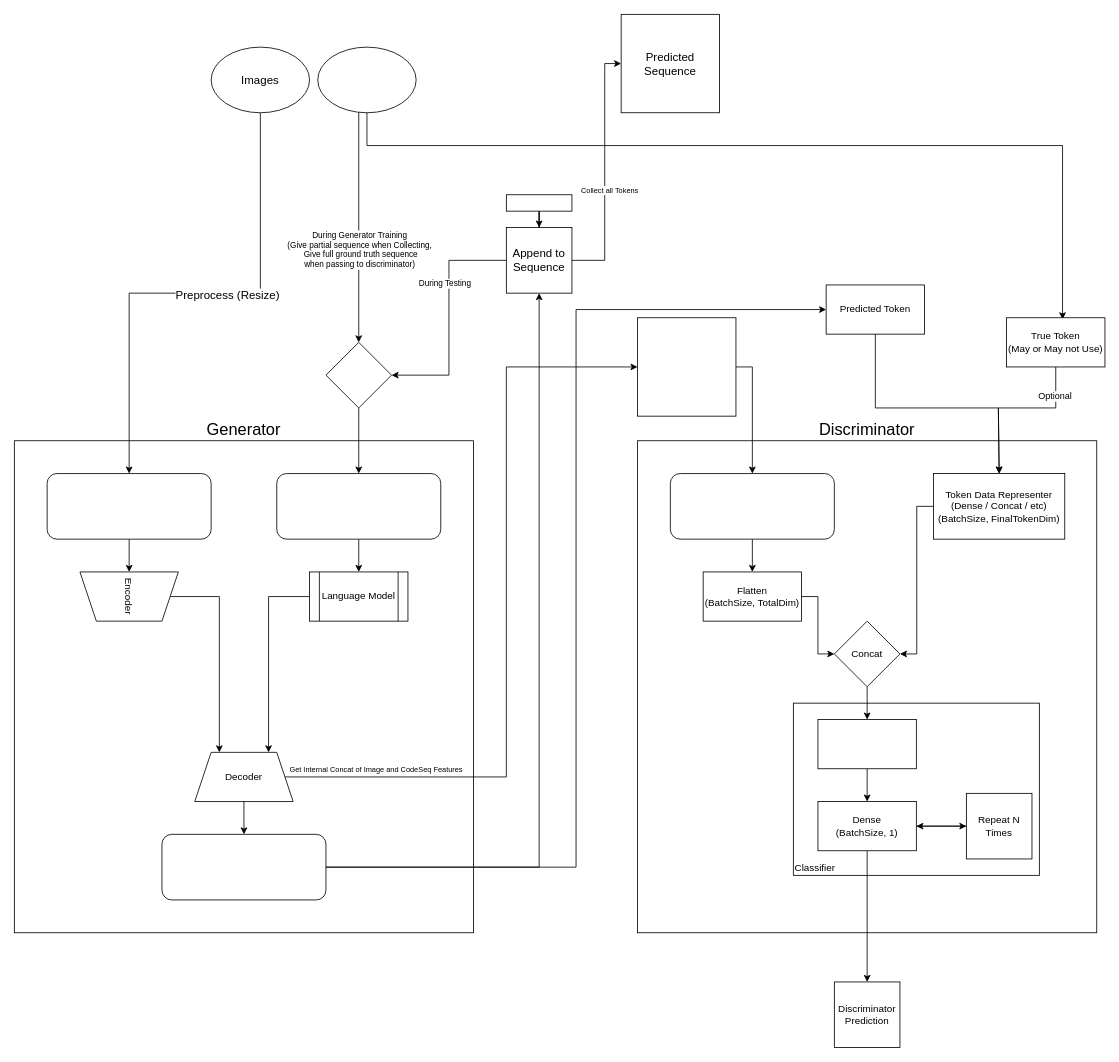
Some shapes in this 1119 by 1062 pixel diagram are drawn without their labels. The shapes that lost their labels are listed below. From the top down, each one's centre as x and y in pixels, then its label:
the point at 366,79: Codes (Ground Truth)
the point at 539,202: <start>
the point at 686,366: Data Representation Concat between encoded X and language modelled Y_in
the point at 128,506: X (BatchSize, Height, Width)
the point at 358,506: Y_in (BatchSize, SequenceLength, VocabSize)
the point at 752,506: Y_1 (BatchSize, ? (Depends on Decoder Type))
the point at 866,744: Final Representation (BatchSize, FinalDim)
the point at 243,867: Y_pred (BatchSize, VocabSize)
